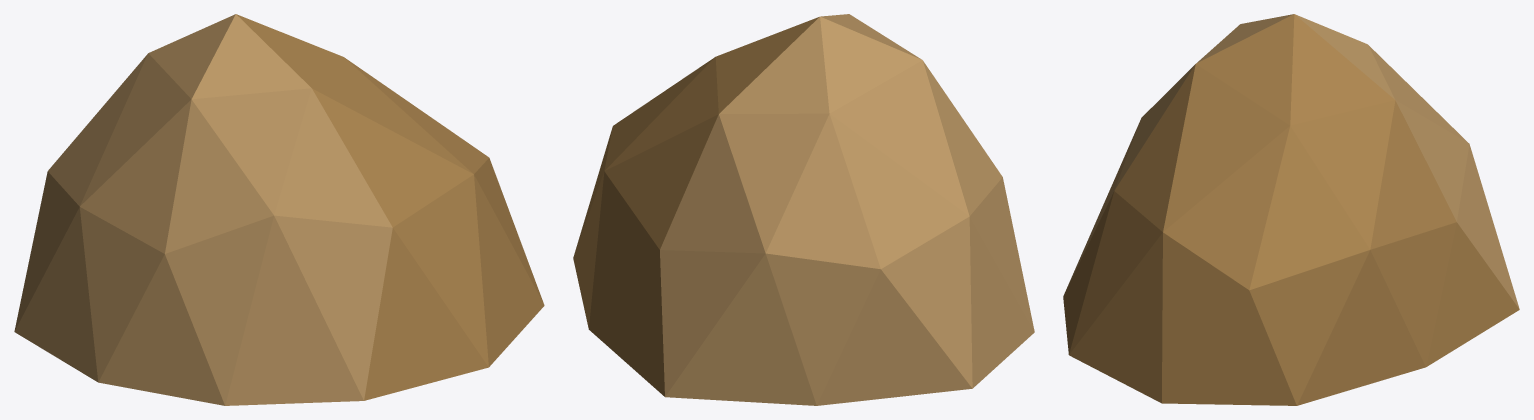
Rendered from PrairieStone(4).fbx.
The picture shows the model from 3 angles, left to right: view 1: azimuth 30°, elevation 25°; view 2: azimuth 150°, elevation 25°; view 3: azimuth 270°, elevation 25°; orthographic projection. The views are drawn at different scales.
Parts seen in each view (by area): view 1: PrairieStone(4); view 2: PrairieStone(4); view 3: PrairieStone(4).
Part boxes in pixels (bbox=[...]): PrairieStone(4): bbox=[14, 14, 544, 405]; PrairieStone(4): bbox=[573, 14, 1034, 405]; PrairieStone(4): bbox=[1063, 14, 1519, 405].
Size of the model in its own units: 1.33 by 0.8832 by 1.3.
